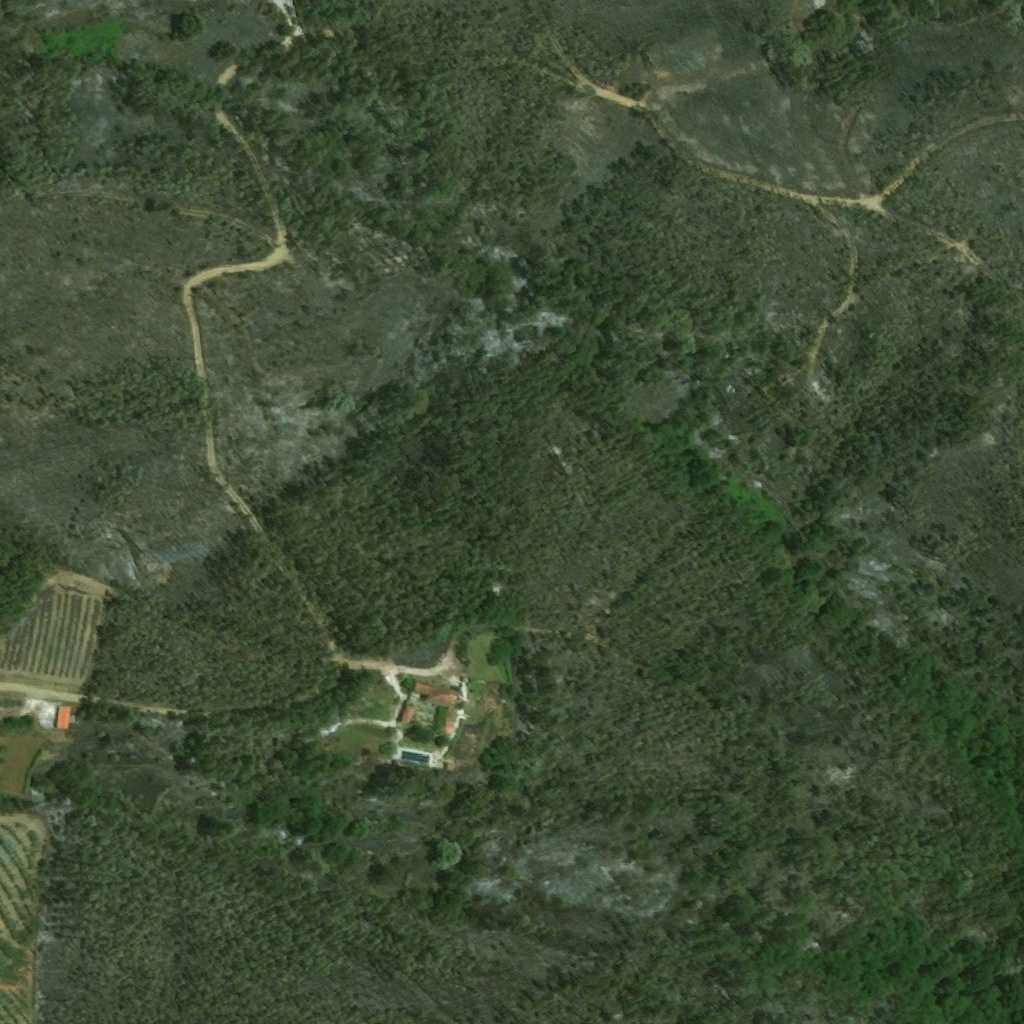0 no-damage: (414, 679, 462, 706), (440, 708, 466, 740), (54, 706, 72, 733), (398, 705, 417, 725)
